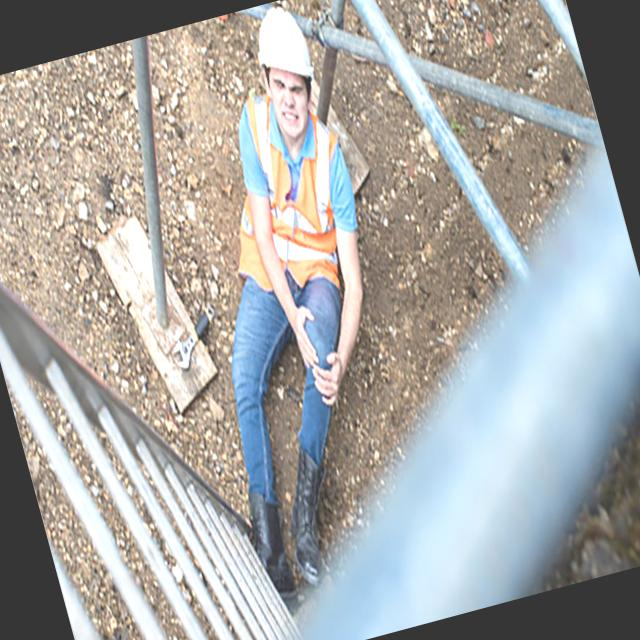helmet: (243, 0, 318, 98)
no-goggles: (266, 72, 310, 103)
vest: (220, 103, 368, 312)
